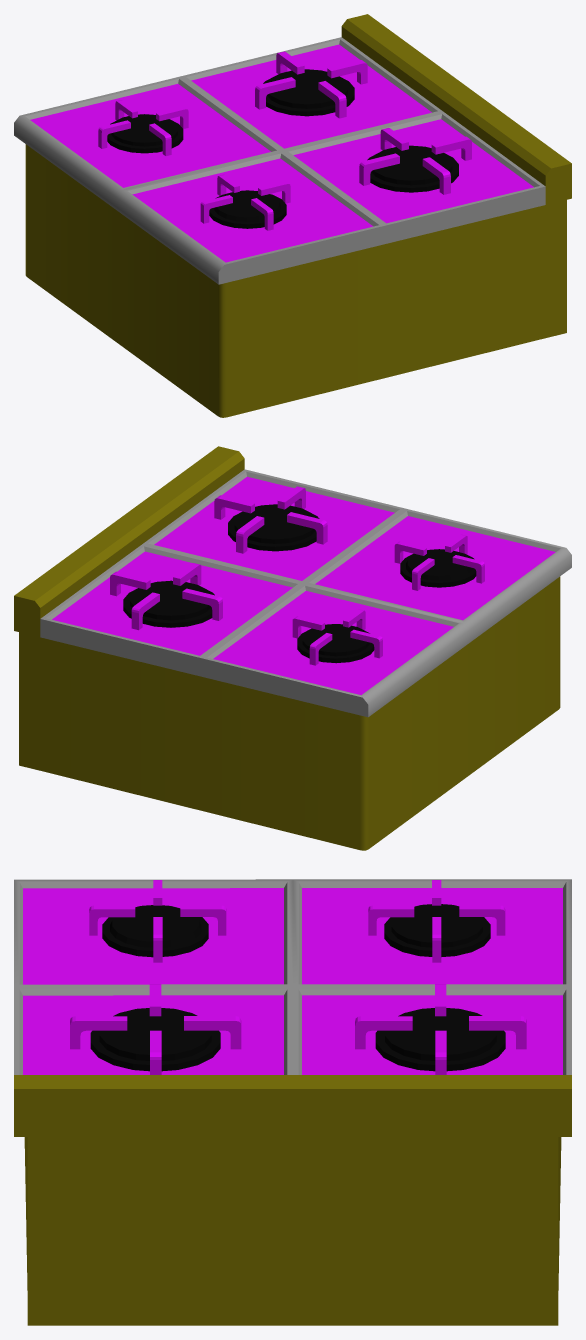
The model's file is Gaziniere_Model.FBX.
The picture shows the model from 3 angles, top to bottom: view 1: azimuth 30°, elevation 25°; view 2: azimuth 150°, elevation 25°; view 3: azimuth 270°, elevation 25°; orthographic projection. The views are drawn at different scales.
Parts seen in each view (by area): view 1: Gaziniere_Model; view 2: Gaziniere_Model; view 3: Gaziniere_Model.
Part boxes in pixels (box(x1,y1,x2,y2)): Gaziniere_Model: box(14, 14, 571, 417); Gaziniere_Model: box(14, 446, 571, 850); Gaziniere_Model: box(14, 879, 571, 1325).
Bounding box in the file's own units: 99.99 × 46.92 × 99.89.
